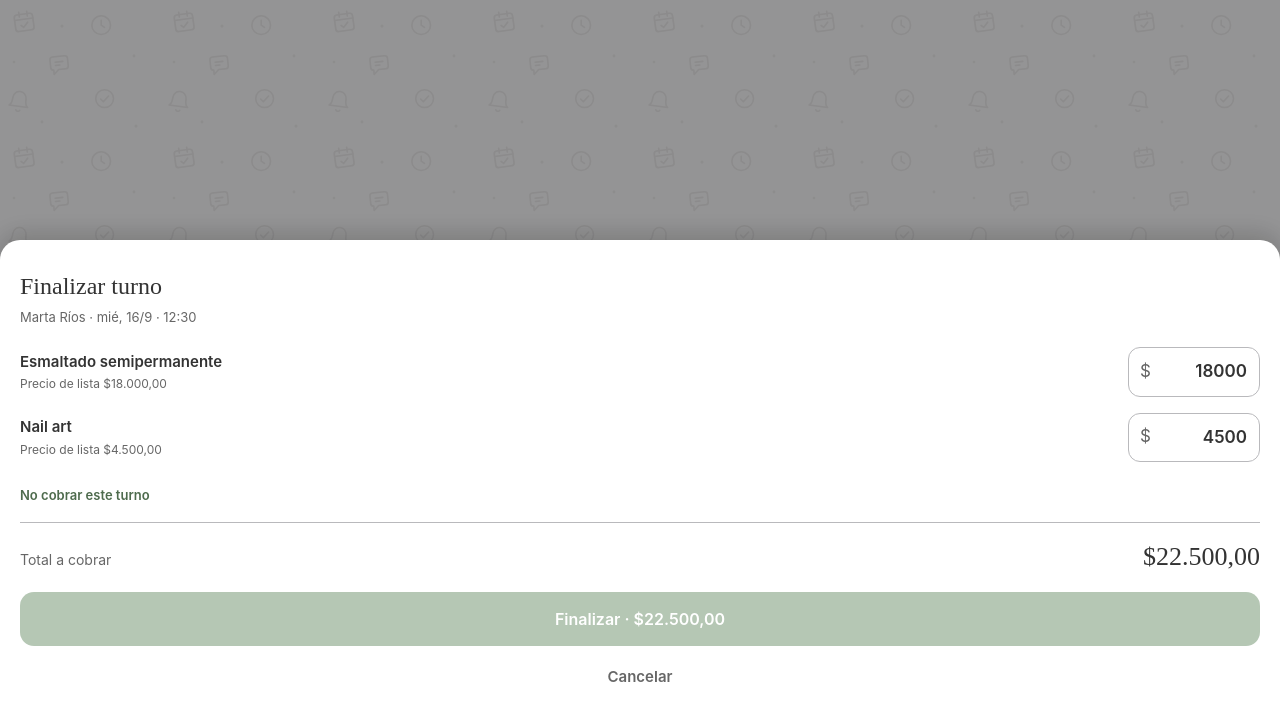
Scenario: PrecioServiciosSheetHost › marca como ajustado un precio distinto al de lista y actualiza el total
The width and height of the screenshot is (1280, 720).
Replace the text in the field named "Esmaltado semipermanente" with "19500" at [1194, 372], box [1128,347,1260,396]
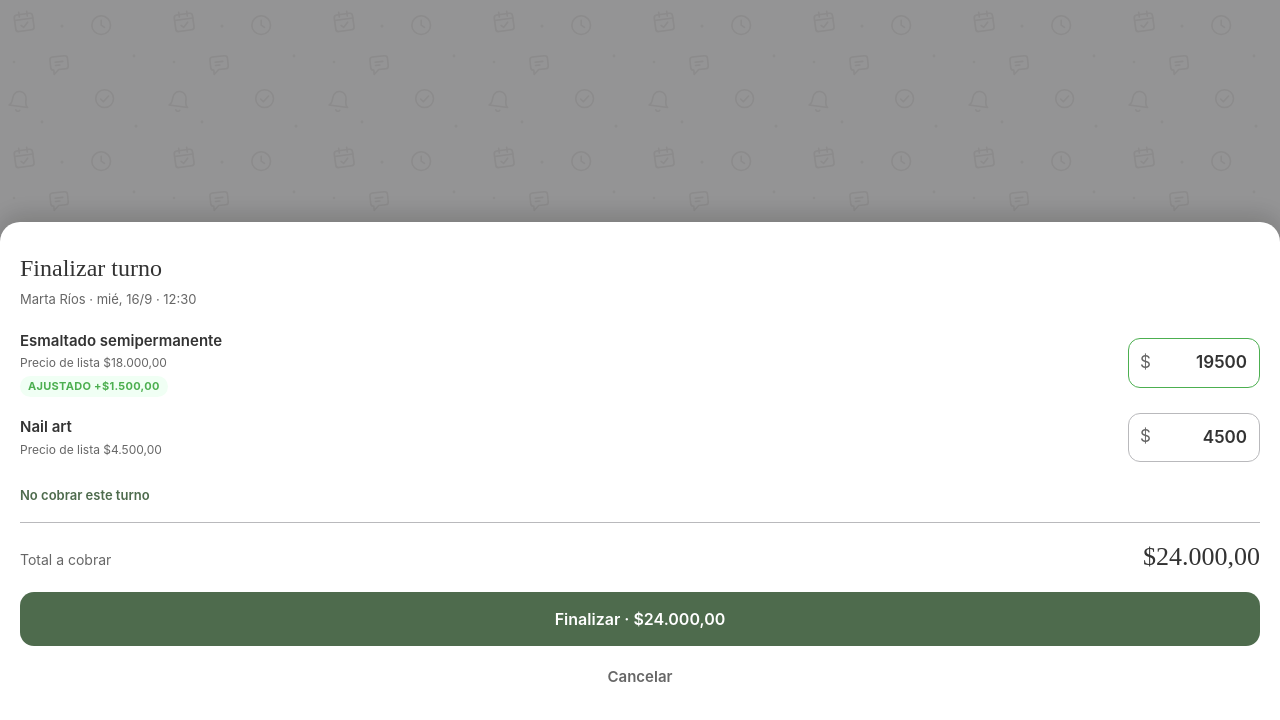
Expected: the text "Ajustado +$1.500,00" is shown, [20,376,168,396]
Expected: the button "Finalizar · $24.000,00" is enabled, [20,592,1260,646]
